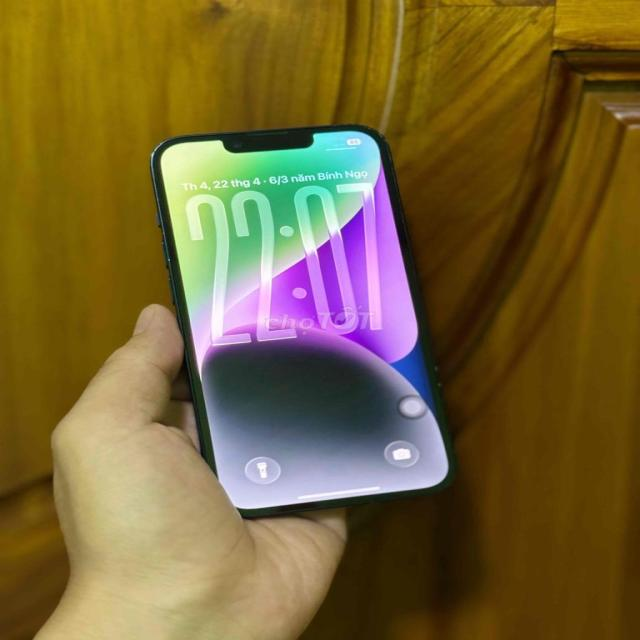gen_14: (148, 121, 470, 516)
